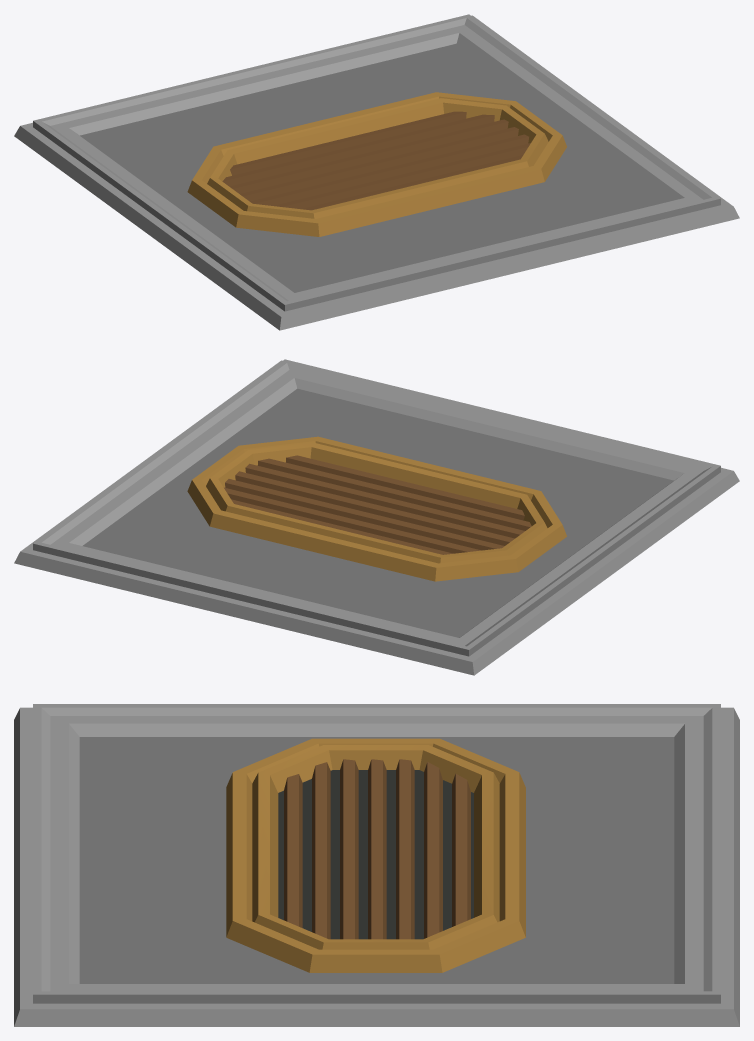
File: quaternius-modular-sci-fi-roof-tile-orange-vent.glb
The picture shows the model from 3 angles, top to bottom: view 1: azimuth 30°, elevation 25°; view 2: azimuth 150°, elevation 25°; view 3: azimuth 270°, elevation 25°; orthographic projection. The views are drawn at different scales.
Visible parts, largest first — view 1: RoofTile_OrangeVent; view 2: RoofTile_OrangeVent; view 3: RoofTile_OrangeVent.
Boxes of the visible parts, x1=… form: RoofTile_OrangeVent: x1=14, y1=14, x2=739, y2=330; RoofTile_OrangeVent: x1=14, y1=359, x2=739, y2=675; RoofTile_OrangeVent: x1=14, y1=704, x2=739, y2=1026.
Bounding box in the file's own units: 2 × 0.1157 × 2.
Materials: 1 (1 with a texture image).
